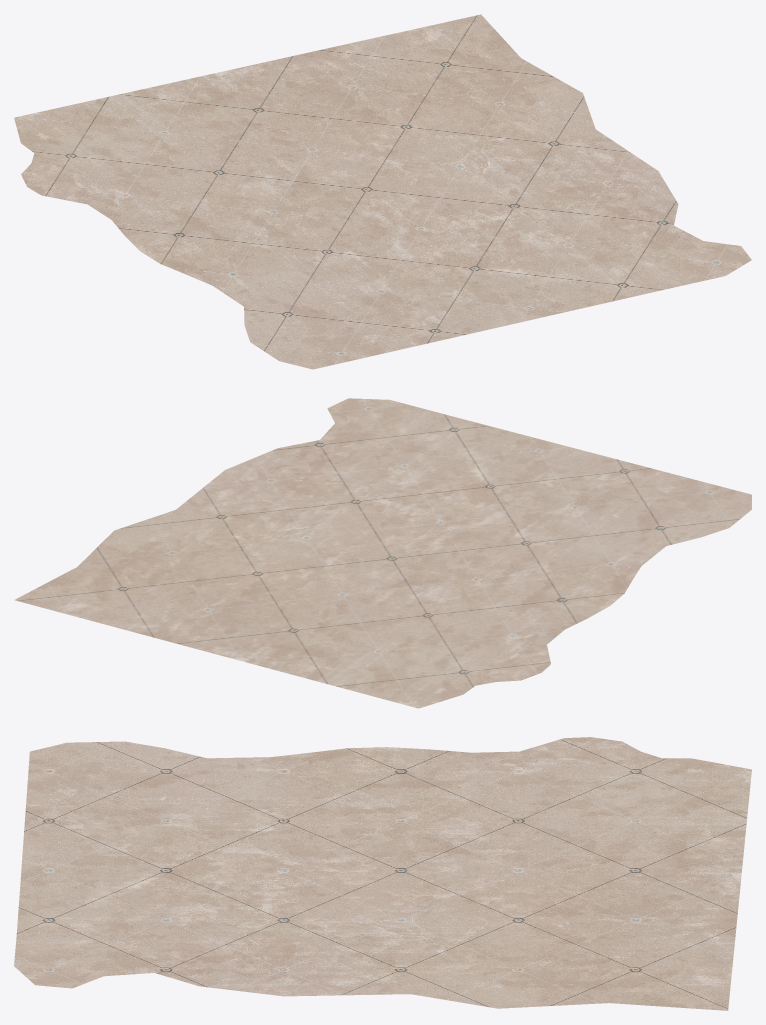
The model's file is papier.glb.
3 views of the same model, one above another, from view 1: azimuth 30°, elevation 25°; view 2: azimuth 150°, elevation 25°; view 3: azimuth 270°, elevation 25° (orthographic). The views are drawn at different scales.
Visible parts, largest first — view 1: Plane; view 2: Plane; view 3: Plane.
Boxes of the visible parts, x1,y1,x2,y2 form: Plane: (14, 14, 751, 369); Plane: (14, 398, 751, 708); Plane: (14, 737, 751, 1010).
Bounding box in the file's own units: 1.38 × 0 × 1.57.
1 material, 1 textured.
